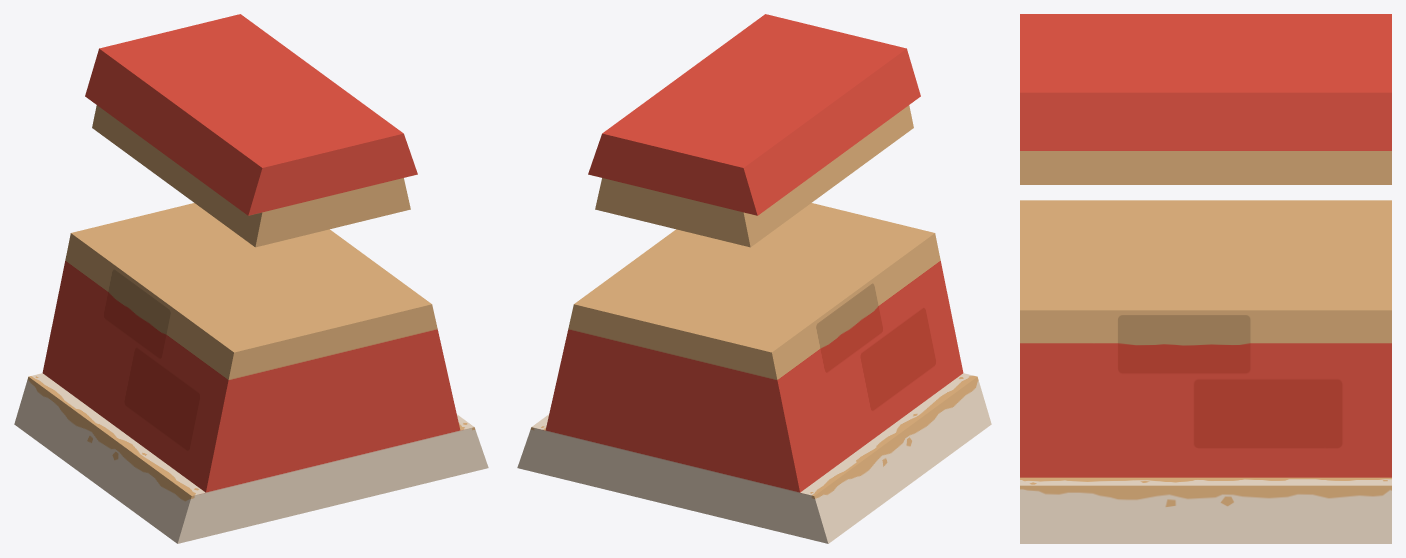
File: lowWallGap.fbx
3 views of the same model, side by side, from view 1: azimuth 30°, elevation 25°; view 2: azimuth 150°, elevation 25°; view 3: azimuth 270°, elevation 25° (orthographic). The views are drawn at different scales.
Visible parts, largest first — view 1: Cube.001; view 2: Cube.001; view 3: Cube.001.
Part boxes in pixels (bbox=[...]): Cube.001: bbox=[14, 14, 488, 543]; Cube.001: bbox=[517, 14, 991, 543]; Cube.001: bbox=[1020, 14, 1391, 543].
Bounding box in the file's own units: 2.2 × 2.4 × 2.
